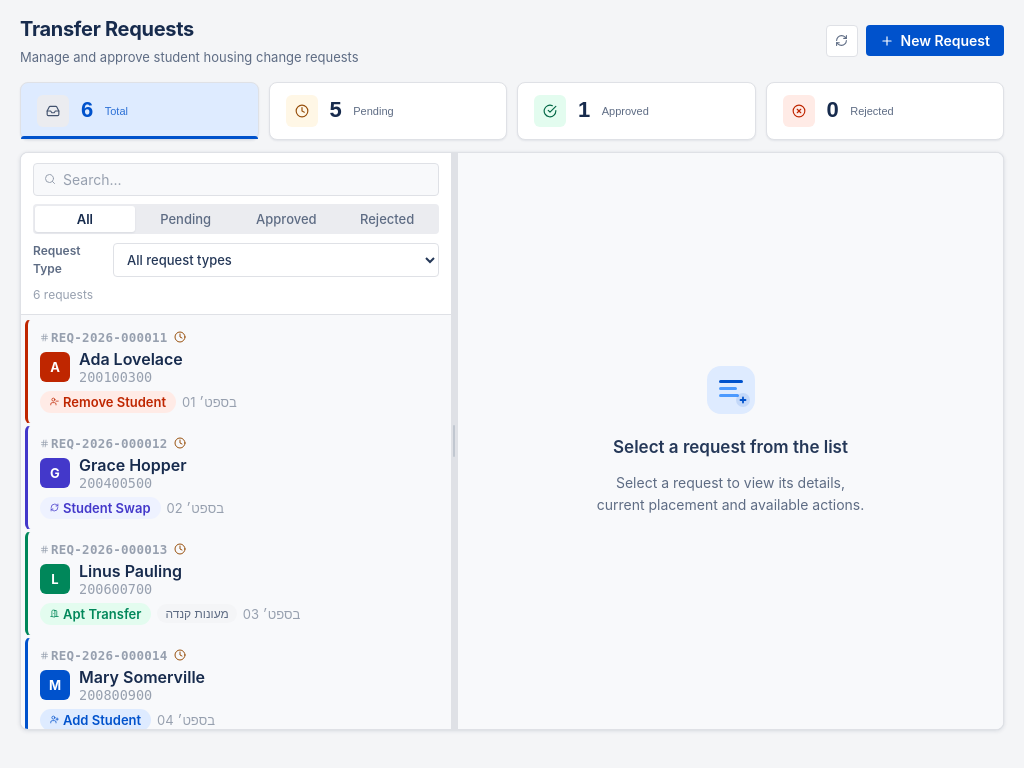
Test: TransfersPage request details › shows the route, placement, details and type of a pending transfer
The width and height of the screenshot is (1024, 768).
Expected: the text "Ada Lovelace" is shown, [79,348,183,368]
Click the button "Linus Pauling": (109,549) [25,530,447,636]
(page scrolled)
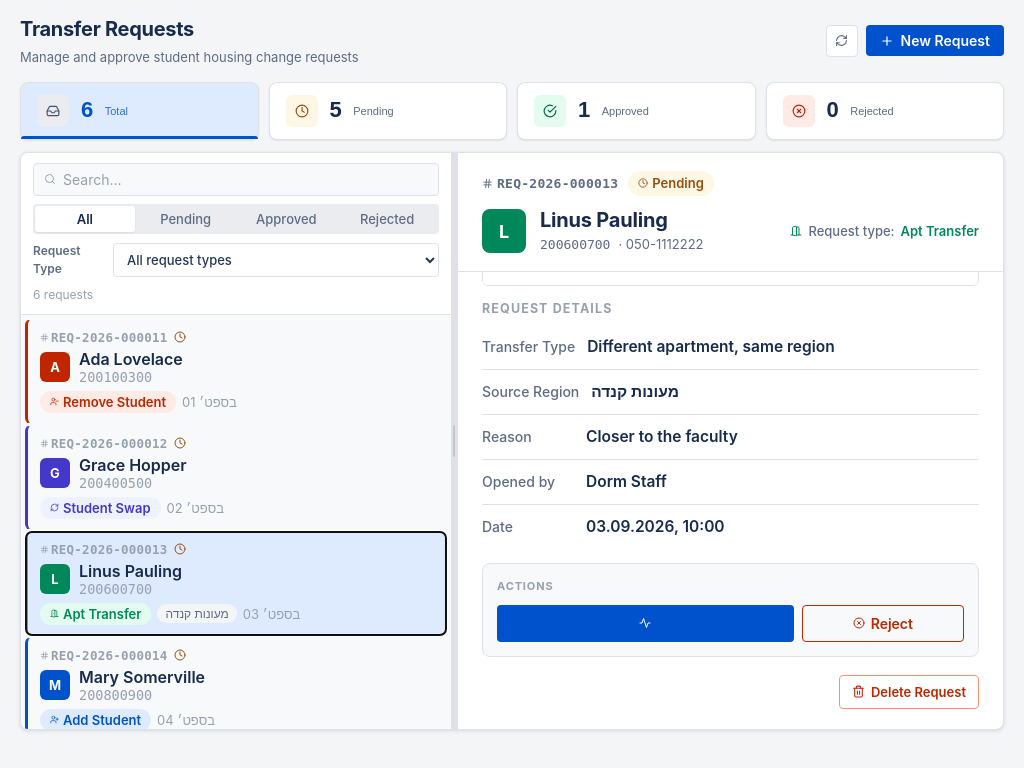
Expected: the heading "Linus Pauling" is shown, [540,208,668,232]
Expected: the text "Apt Transfer" is shown, [900,222,979,241]
Expected: the text "Different apartment, same region" is shown, [587,335,835,359]
